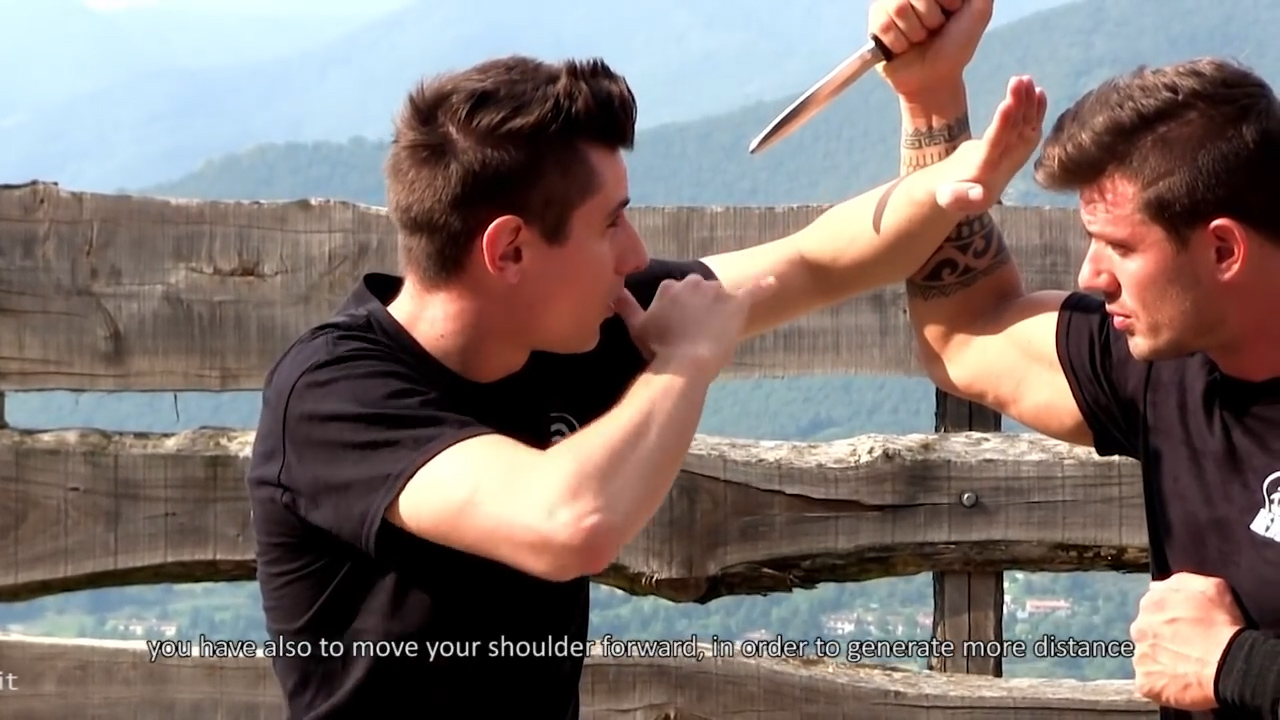knife: (738, 1, 976, 161)
